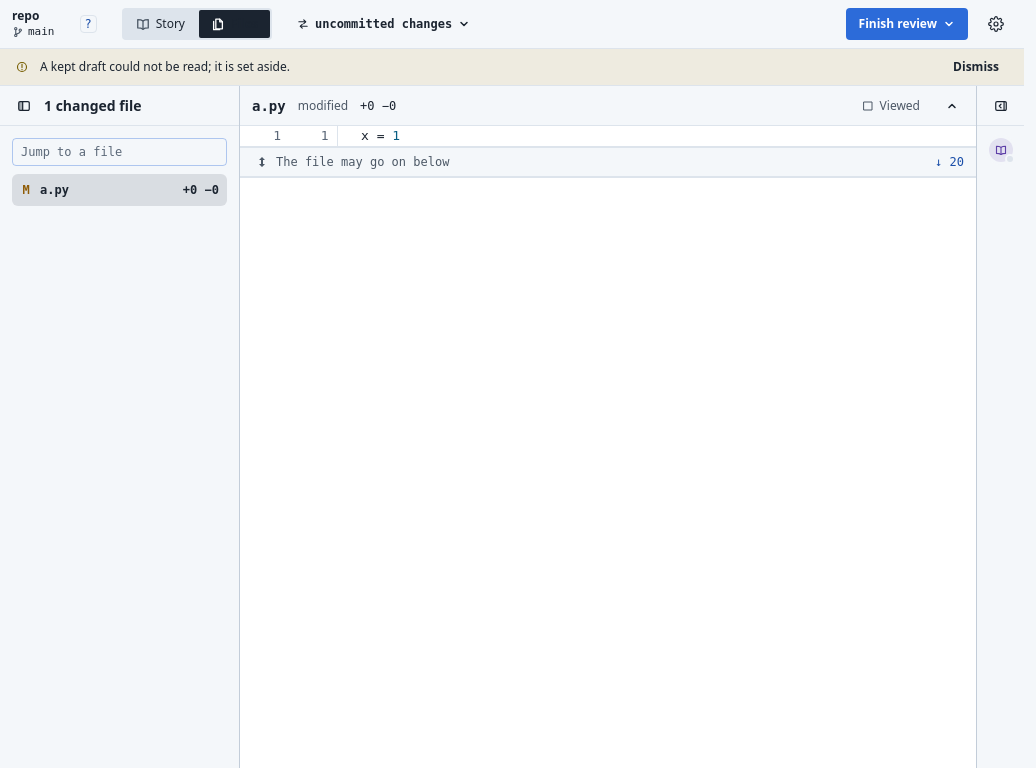
Scenario: a kept draft that could not be read › is said to be set aside, once, and the review opens without it
The image size is (1036, 768).
Expected: the element with test id "draft-set-aside" shows "A kept draft could not be read; it is set aside.", [40,58,290,75]
Click the button with test id "dismiss-set-aside" at (976, 67), box [944,55,1008,79]
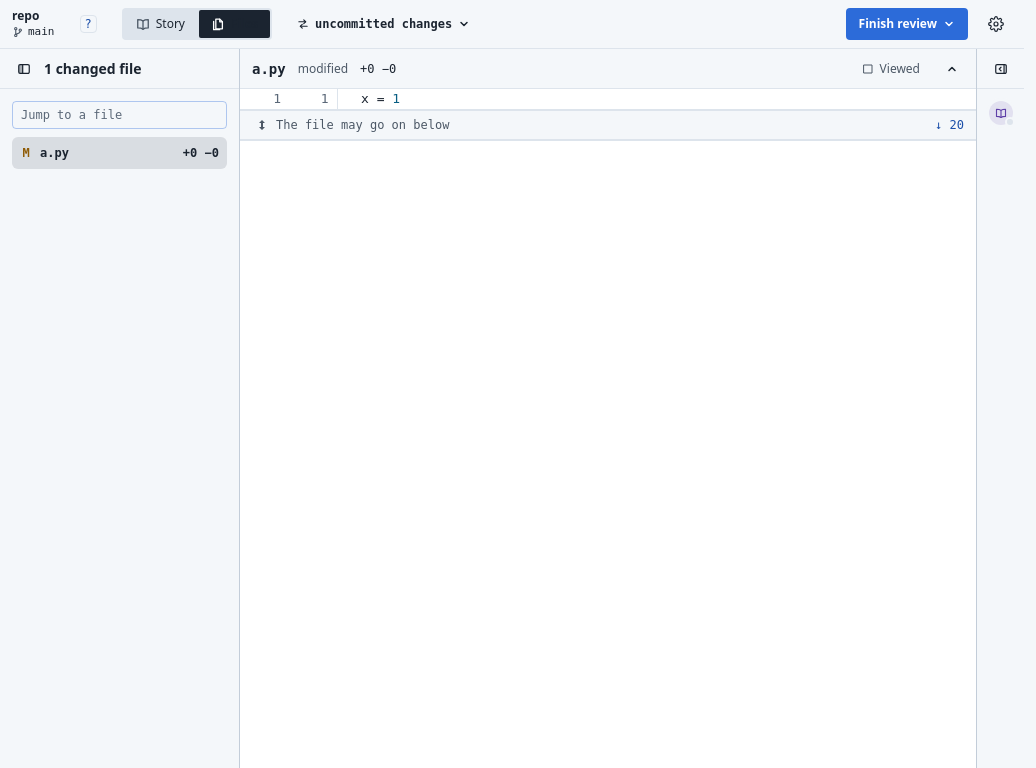
Result: the element with test id "draft-set-aside" is gone
